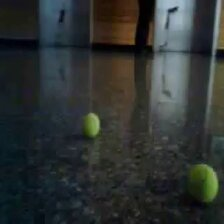tennis: (187, 163, 220, 204), (81, 112, 100, 138)
